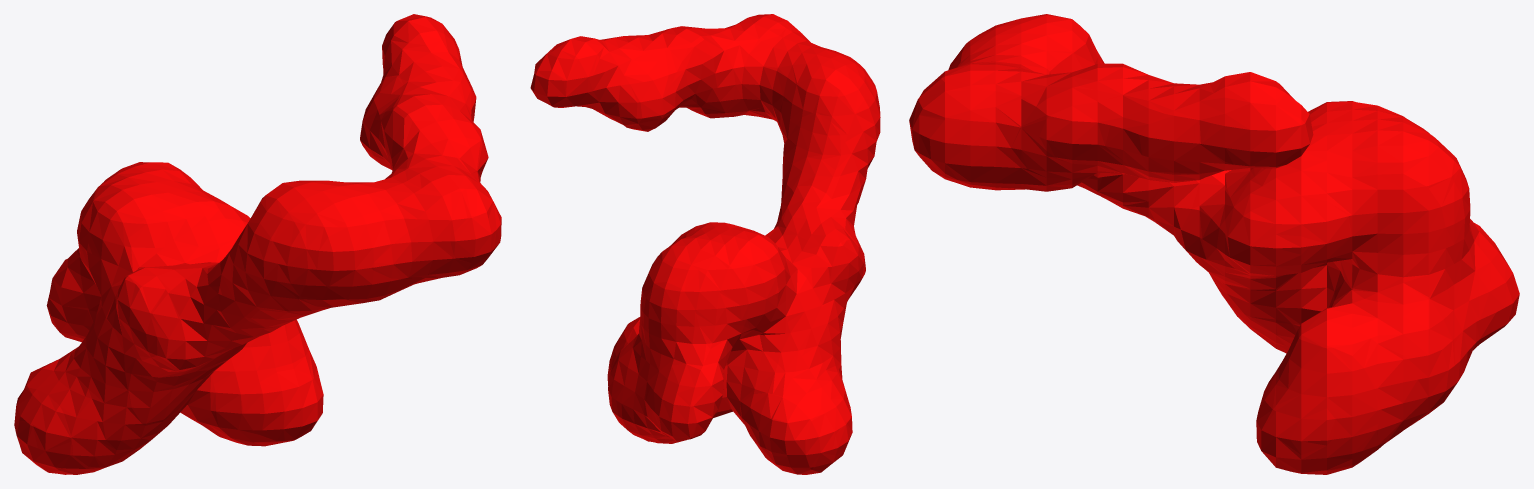
Rendered from mazE_coarse.dae.
3 renders of one model, left to right at view 1: azimuth 30°, elevation 25°; view 2: azimuth 150°, elevation 25°; view 3: azimuth 270°, elevation 25°, orthographic. The views are drawn at different scales.
Visible parts, largest first — view 1: mazE; view 2: mazE; view 3: mazE.
Boxes of the visible parts, <box> form: mazE: <box>14,14,501,474</box>; mazE: <box>530,14,880,474</box>; mazE: <box>909,14,1519,474</box>.
Size of the model in its own units: 47.37 by 47.46 by 56.7.
